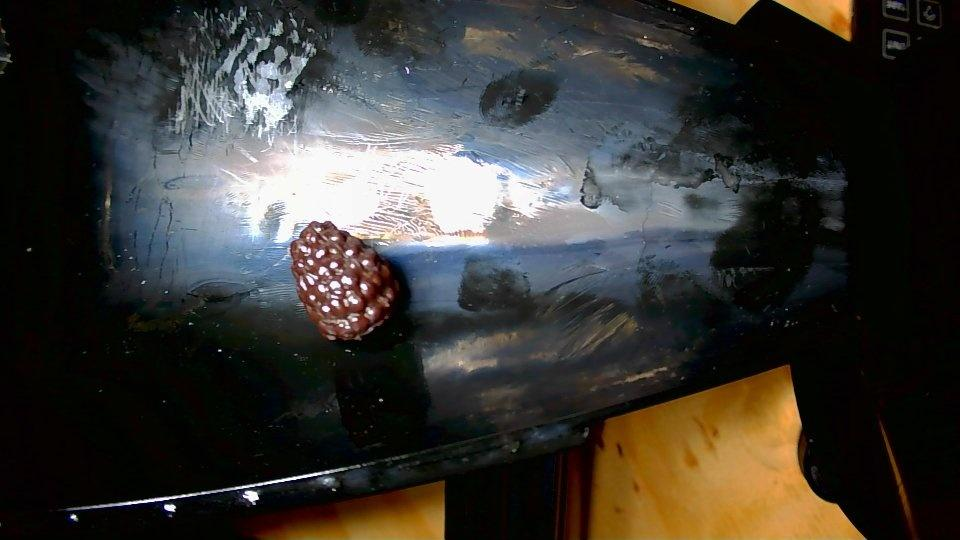berry: (290, 221, 399, 339)
